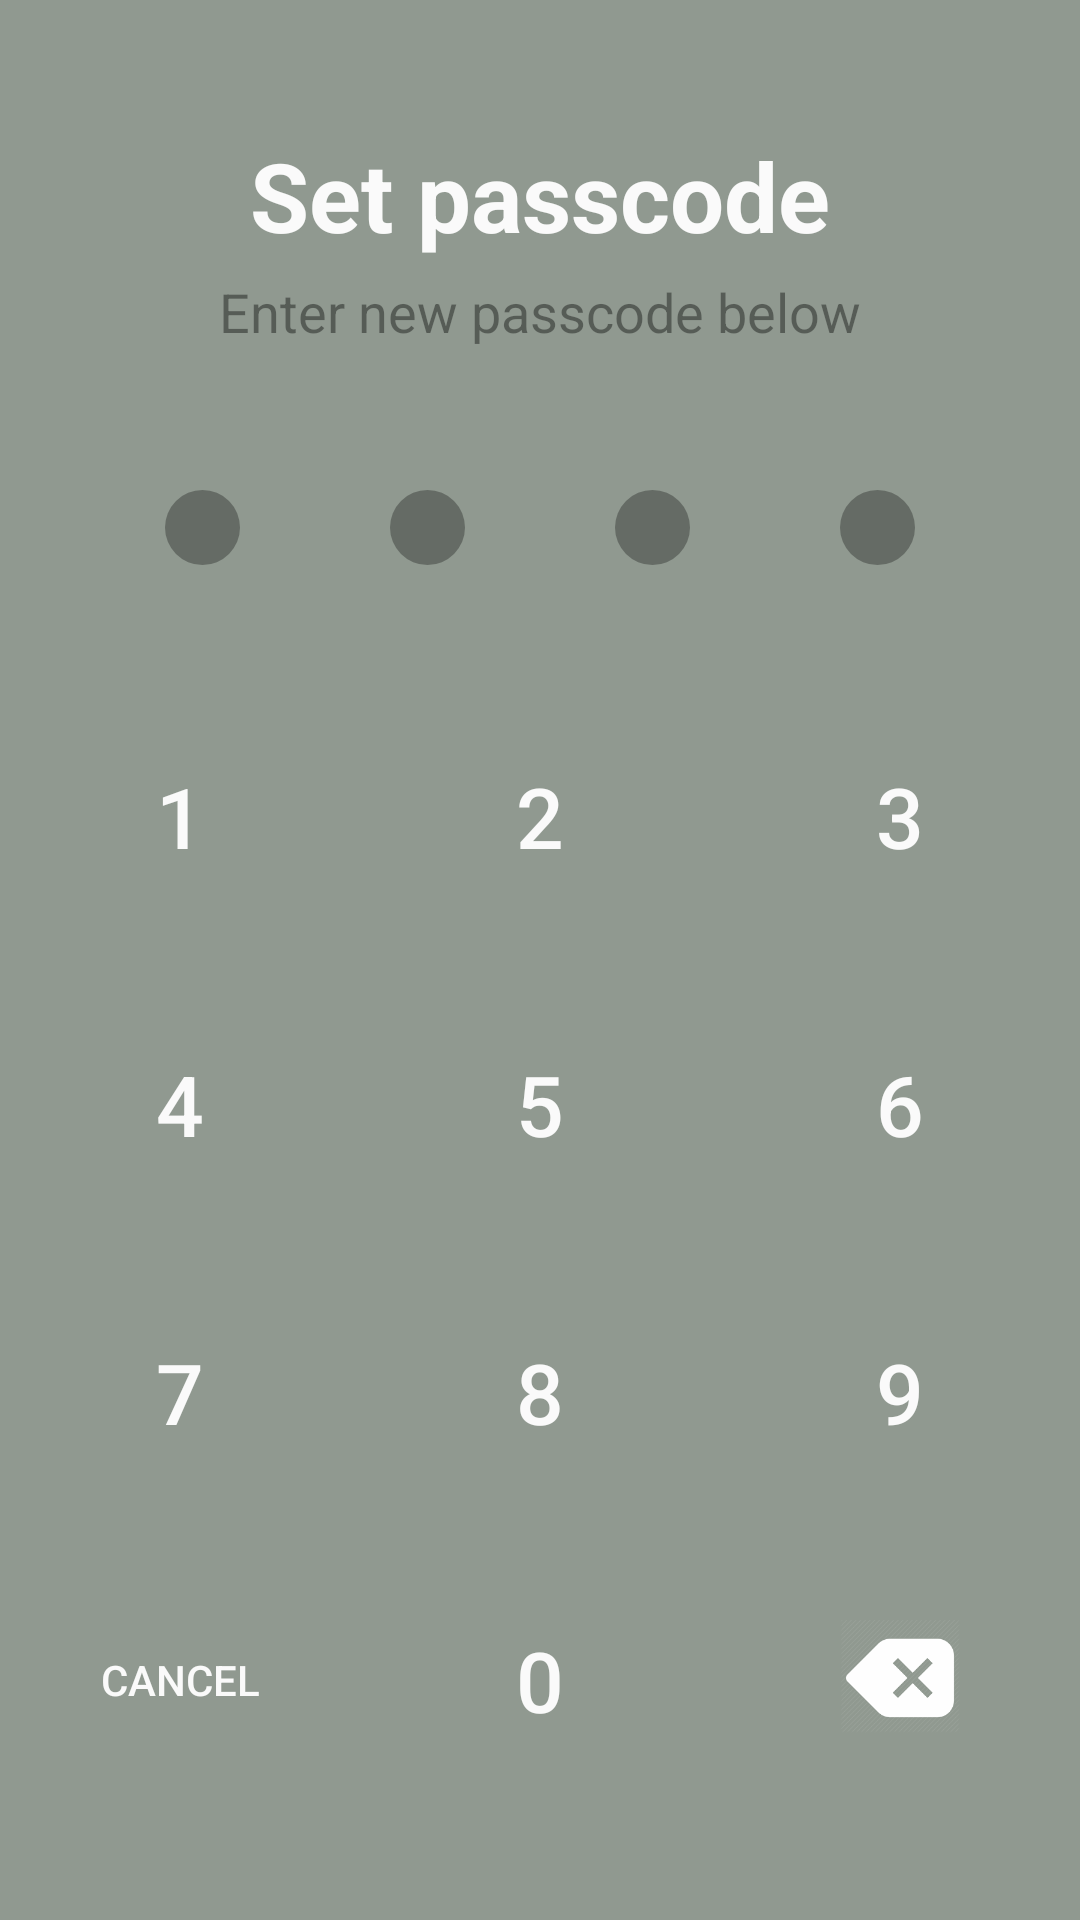

Named icons in this screenshot (1080w x 1920h) and their centers, point (x, y):
backspace: point (900, 1677)
